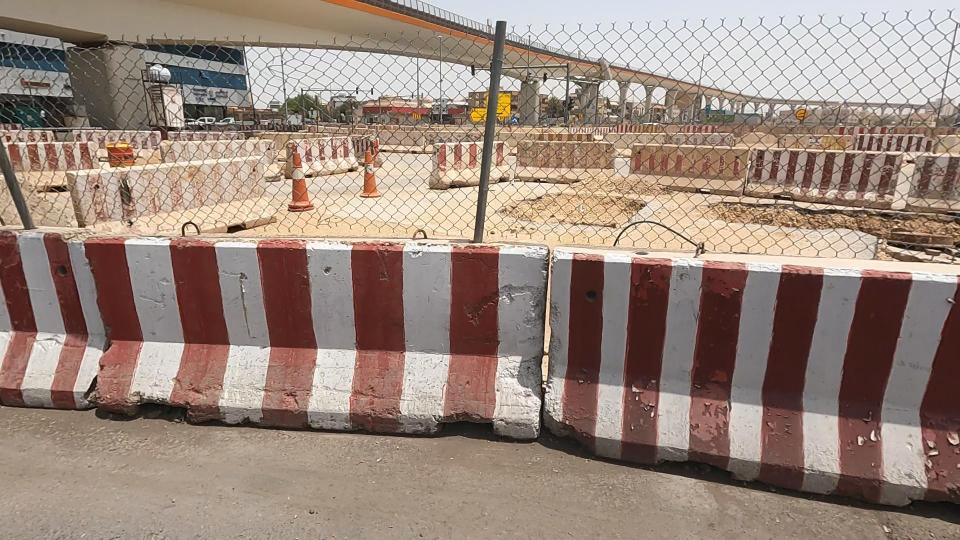SAND_ON_ROAD: (281, 20, 960, 540), (0, 0, 598, 499), (534, 53, 960, 246)
